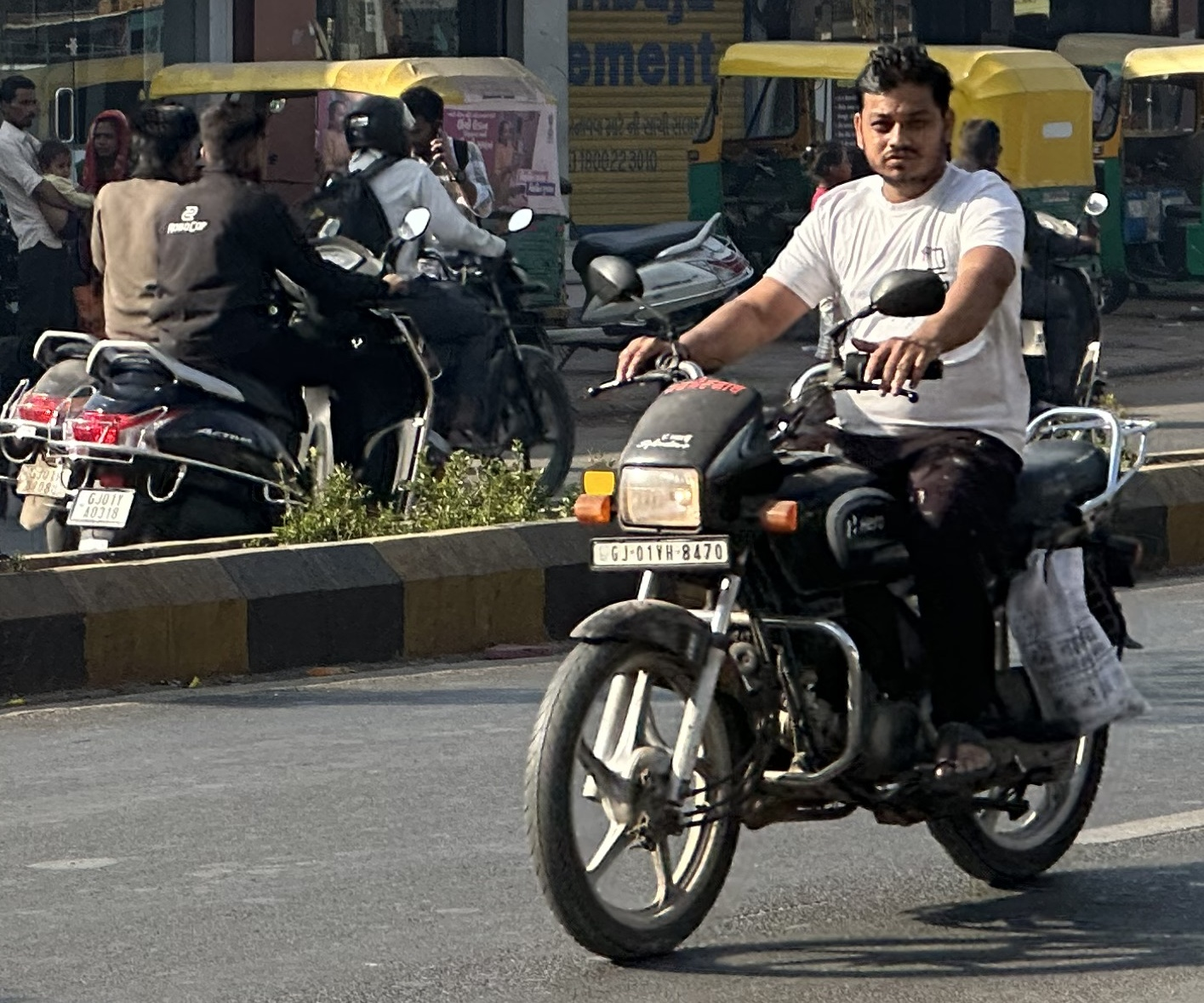BikeWithRider: (520, 48, 1163, 971), (57, 98, 446, 565), (293, 93, 581, 506), (0, 98, 210, 543)
Helmet: (338, 95, 424, 163)
NoHelmet: (847, 51, 956, 185), (120, 102, 204, 181), (208, 100, 273, 186)
